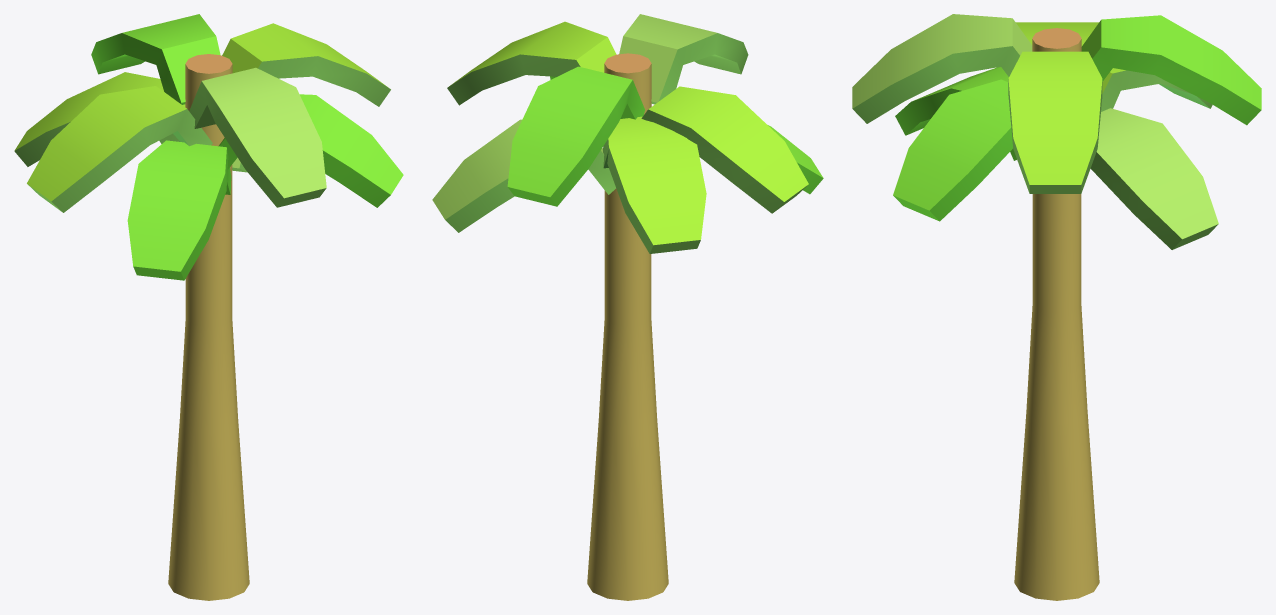
Rendered from tree_plam.fbx.
3 renders of one model, left to right at view 1: azimuth 30°, elevation 25°; view 2: azimuth 150°, elevation 25°; view 3: azimuth 270°, elevation 25°, orthographic. The views are drawn at different scales.
Visible parts, largest first — view 1: tree_plam; view 2: tree_plam; view 3: tree_plam.
Boxes of the visible parts, left/top/right/bottom form: tree_plam: left=14, top=14, right=403, bottom=600; tree_plam: left=432, top=14, right=823, bottom=600; tree_plam: left=852, top=14, right=1261, bottom=600.
Size of the model in its own units: 317 by 470 by 317.
